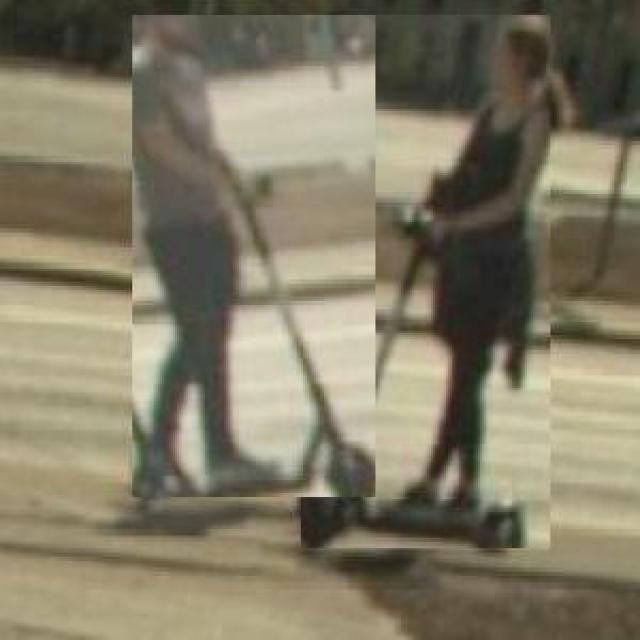with scooter: (301, 16, 550, 551), (134, 15, 376, 497)
